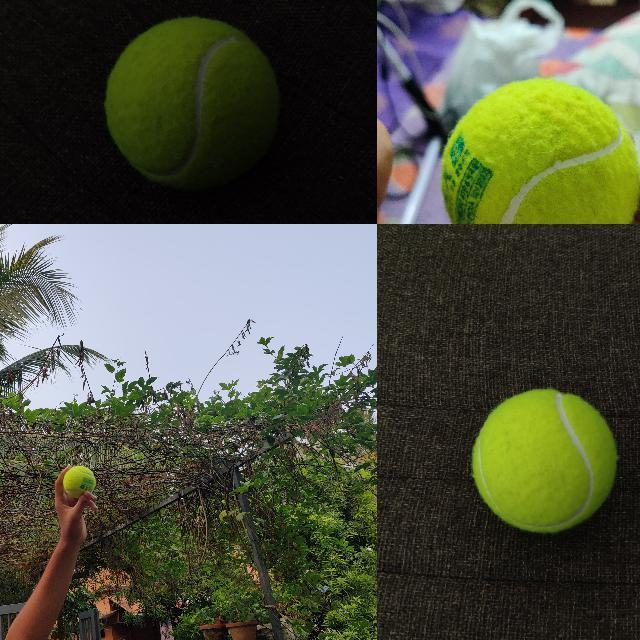tennis-ball: (105, 17, 279, 190), (437, 77, 639, 223), (471, 388, 617, 532), (62, 465, 96, 499)
